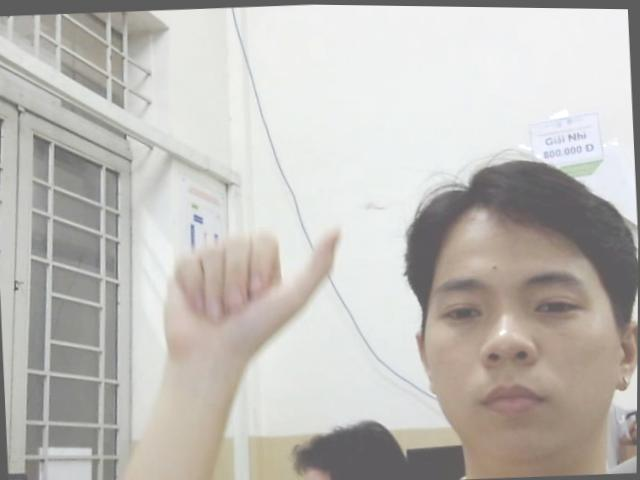A: (159, 224, 348, 338)
